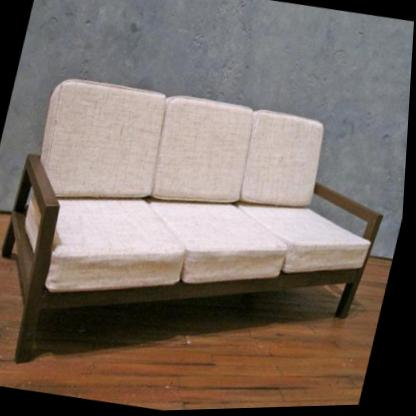Sofa: (0, 62, 409, 416)
